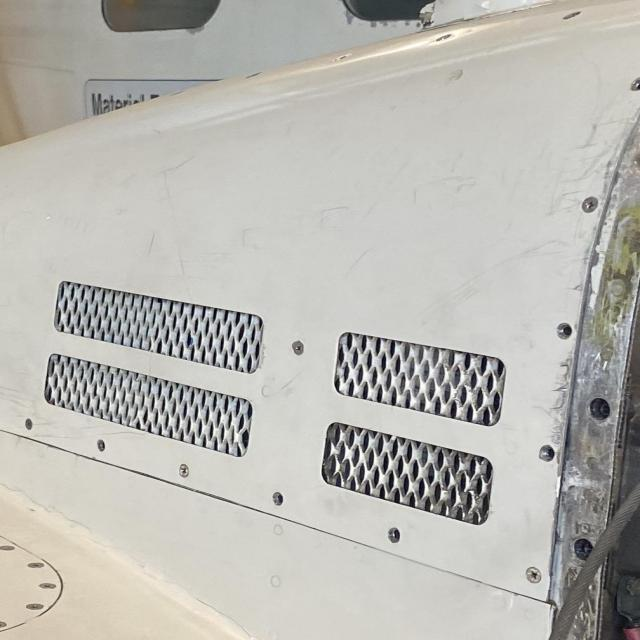Missing-head: (539, 446, 557, 463), (556, 323, 573, 339), (386, 529, 402, 545), (269, 491, 284, 508), (630, 76, 640, 91), (95, 441, 104, 453)
Paint-off: (342, 4, 357, 25), (368, 20, 377, 31)
